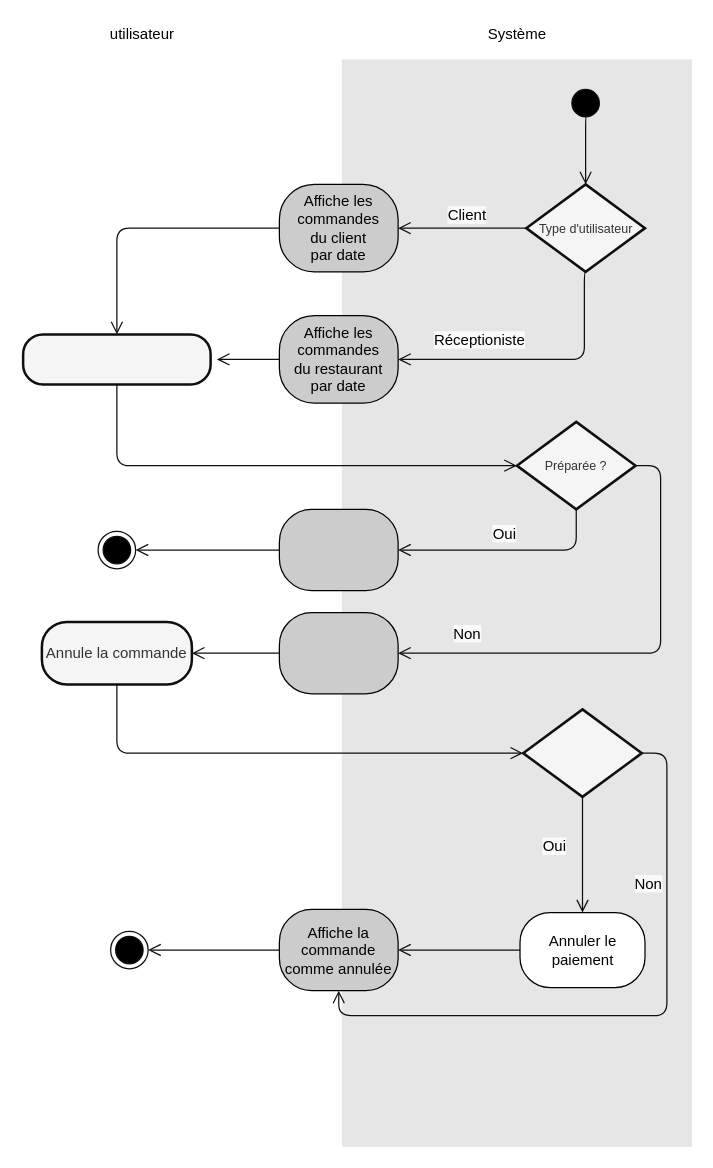
The diagram is 713 pixels wide and 1168 high, and some of its shapes have lost their labels. Each missing label, with the box of its shape:
Affiche la commande avec moyen d'annulation: (278, 611, 398, 694)
Affiche la commande sans moyen d'annulation: (278, 508, 398, 591)
Payée ?: (521, 708, 642, 798)
Sélectionne une commande: (21, 332, 211, 385)
